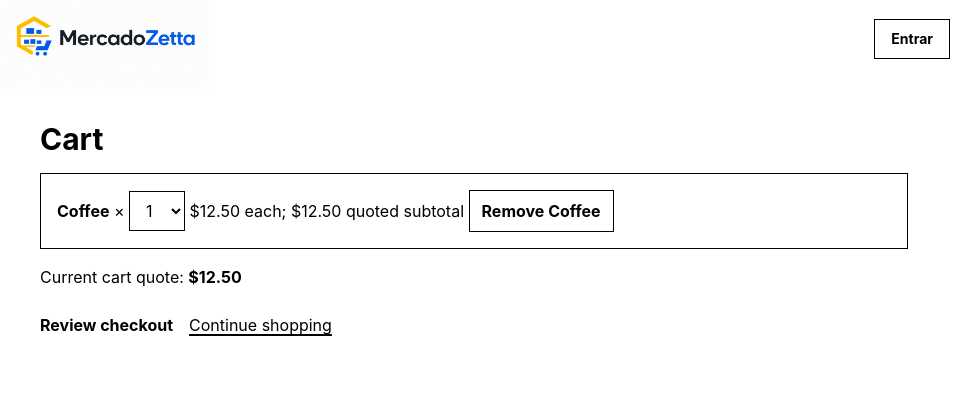
marketplace pages › updates quantities and removes checkout items
The image size is (967, 393).
Select "2" in the dropdown named "Quantity for Coffee". click: {"x": 157, "y": 211}
box: [129,191,185,231]
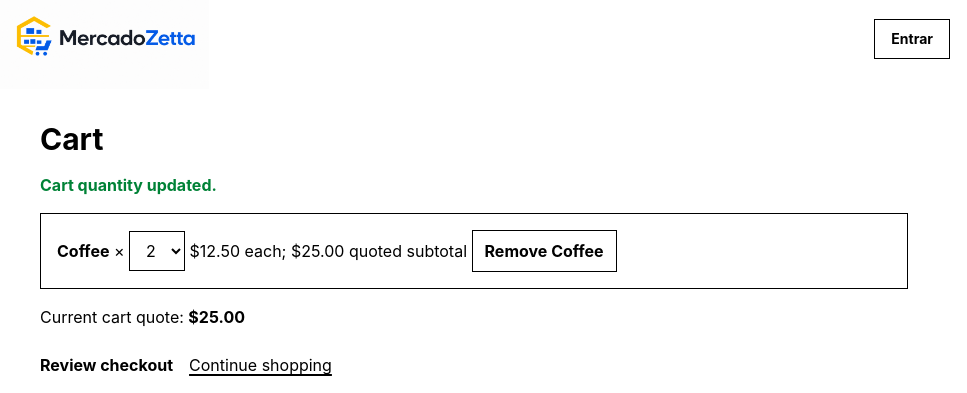
Result: the message reads "Cart quantity updated." at [40,175,217,195]
Click the button "Remove Coffee". click: {"x": 544, "y": 251}
box: [472,230,616,272]
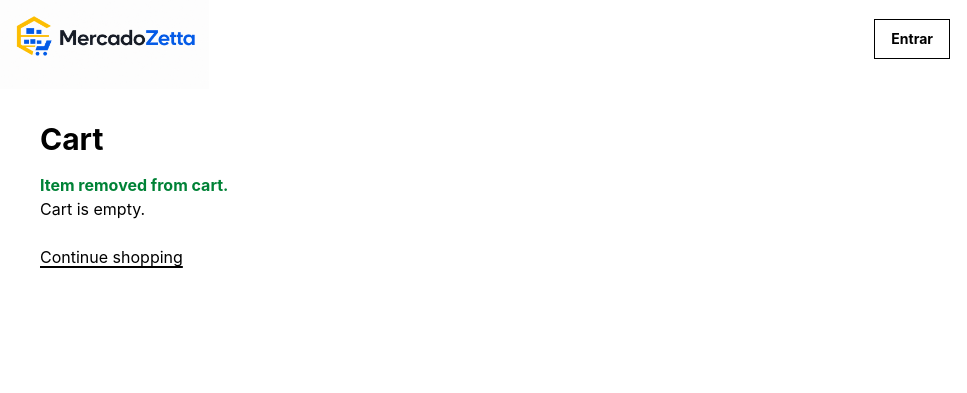
Result: the text "Cart is empty." is shown at [40,199,145,219]
Result: the message reads "Item removed from cart." at [40,175,228,195]
